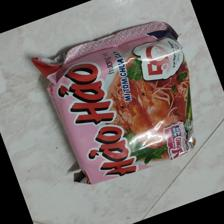Haohao: (30, 21, 199, 187)
